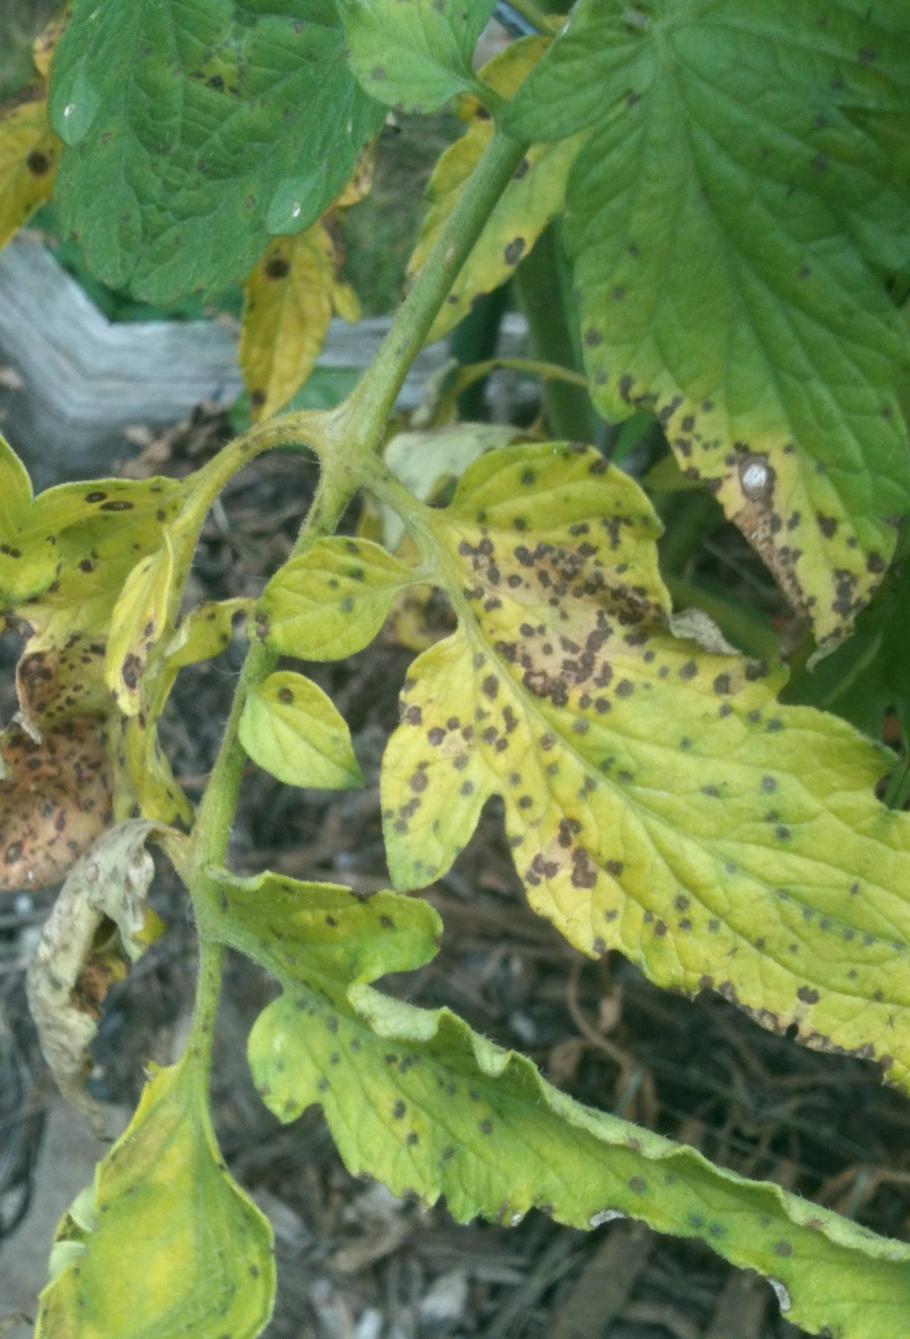Tomato Septoria leaf spot: (264, 400, 910, 1077), (88, 769, 796, 1318), (342, 0, 910, 634), (0, 383, 269, 1044), (20, 1021, 393, 1337)
